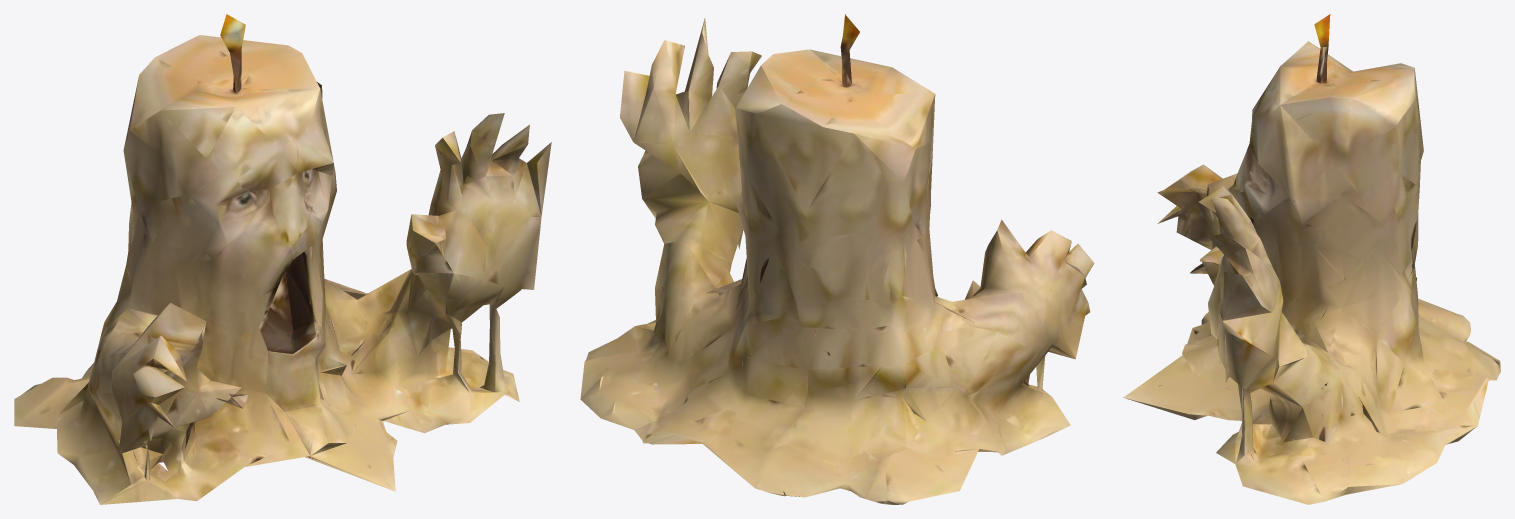
File: monster_6.glb
3 renders of one model, left to right at view 1: azimuth 30°, elevation 25°; view 2: azimuth 150°, elevation 25°; view 3: azimuth 270°, elevation 25°, orthographic. The views are drawn at different scales.
Parts seen in each view (by area): view 1: Candle_Creep_Monster_0709090615_texture; view 2: Candle_Creep_Monster_0709090615_texture; view 3: Candle_Creep_Monster_0709090615_texture.
Boxes of the visible parts, bbox=[...] form: Candle_Creep_Monster_0709090615_texture: bbox=[14, 14, 551, 504]; Candle_Creep_Monster_0709090615_texture: bbox=[580, 14, 1094, 504]; Candle_Creep_Monster_0709090615_texture: bbox=[1123, 14, 1500, 504].
Bounding box in the file's own units: 1.99 × 1.75 × 1.61.
1 material, 1 textured.
